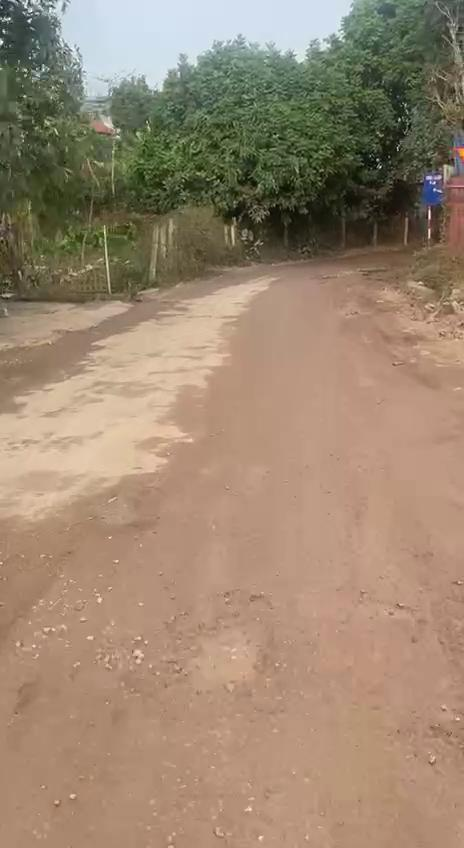pothole: (170, 598, 277, 700)
